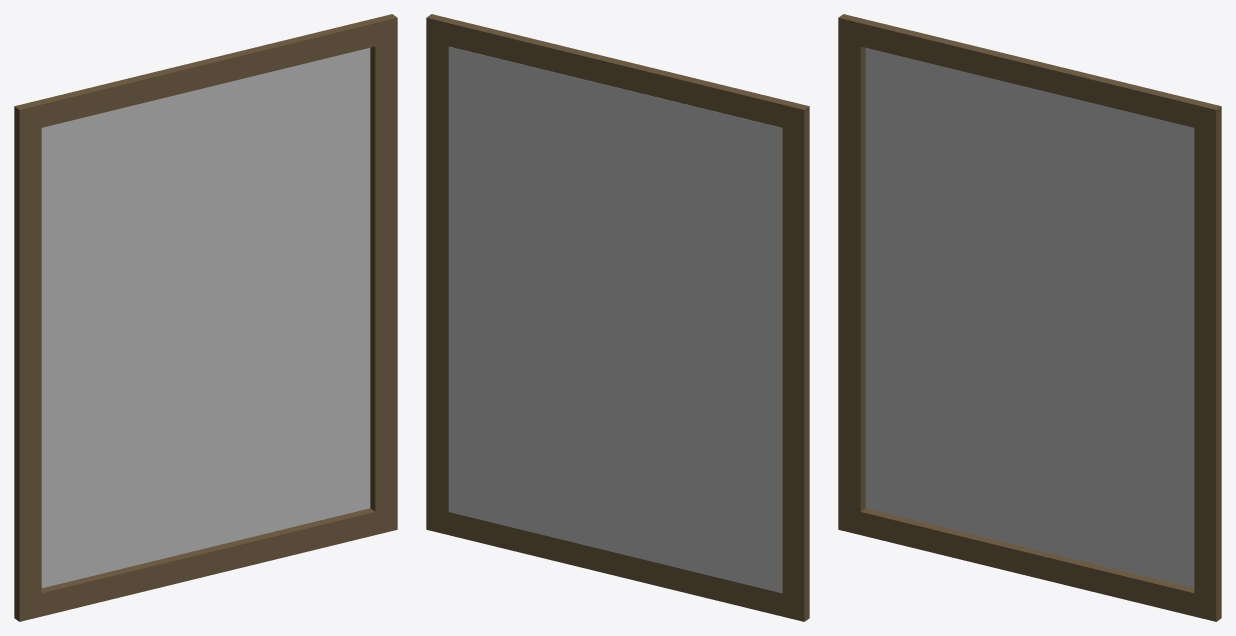
File: frame_portrait.glb
The picture shows the model from 3 angles, left to right: view 1: azimuth 30°, elevation 25°; view 2: azimuth 150°, elevation 25°; view 3: azimuth 330°, elevation 25°; orthographic projection.
Parts seen in each view (by area): view 1: world; view 2: world; view 3: world.
Part boxes in pixels (x1,y1,x2,y2): world: [14, 14, 397, 621]; world: [426, 14, 809, 621]; world: [838, 14, 1221, 621].
Size of the model in its own units: 0.85 by 1.1 by 0.0205.
